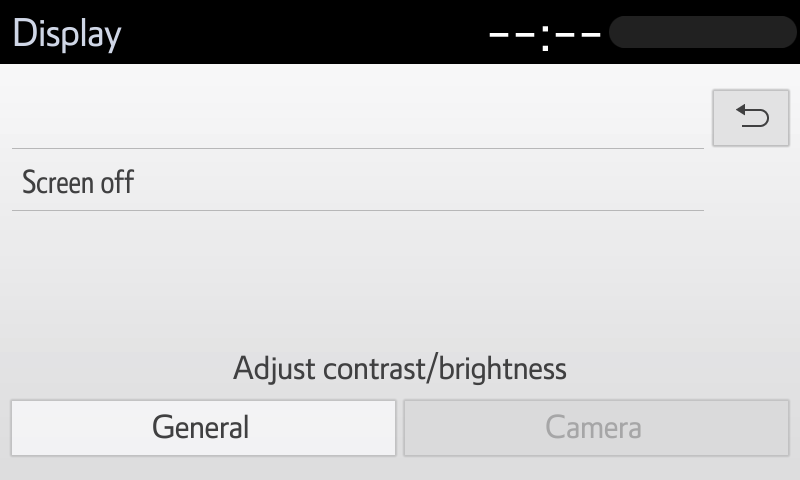touchPart: (707, 89, 791, 146)
untouchPart: (10, 394, 398, 462), (401, 395, 791, 461), (482, 6, 795, 53), (225, 349, 581, 385), (8, 13, 122, 57)
